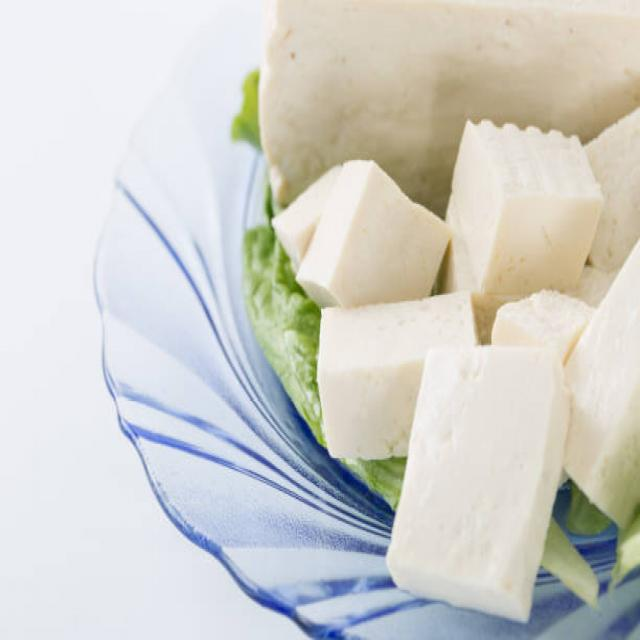tofu: (401, 340, 567, 613), (450, 113, 601, 305), (262, 11, 438, 161), (317, 156, 450, 296), (317, 294, 410, 460)
